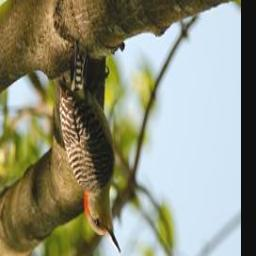Woodpecker: (59, 41, 122, 254)
